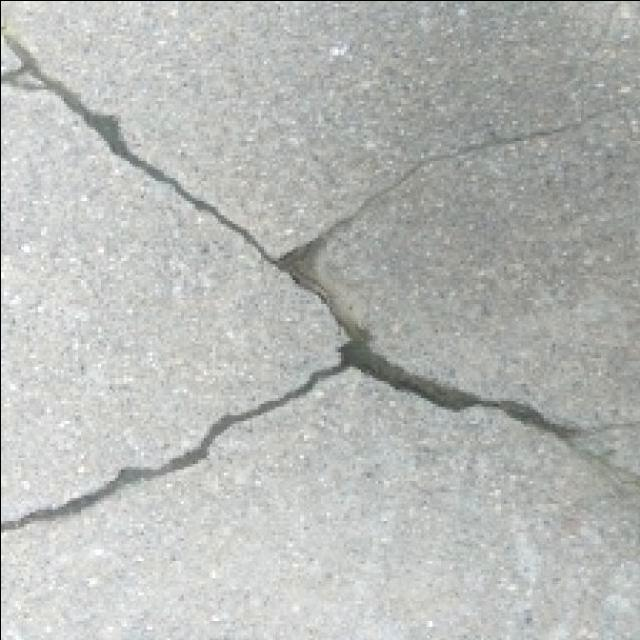SurfaceCrack: (0, 48, 634, 518)
